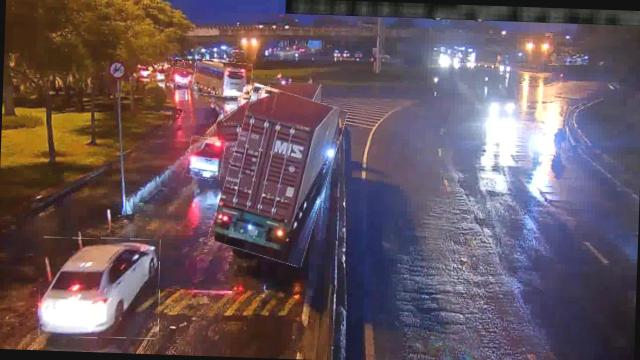Bike: (529, 124, 550, 163), (552, 124, 568, 158)
Bus: (193, 60, 252, 98)
Car: (38, 237, 160, 340), (187, 136, 224, 180), (169, 68, 194, 86)
Truck: (217, 87, 339, 264)
